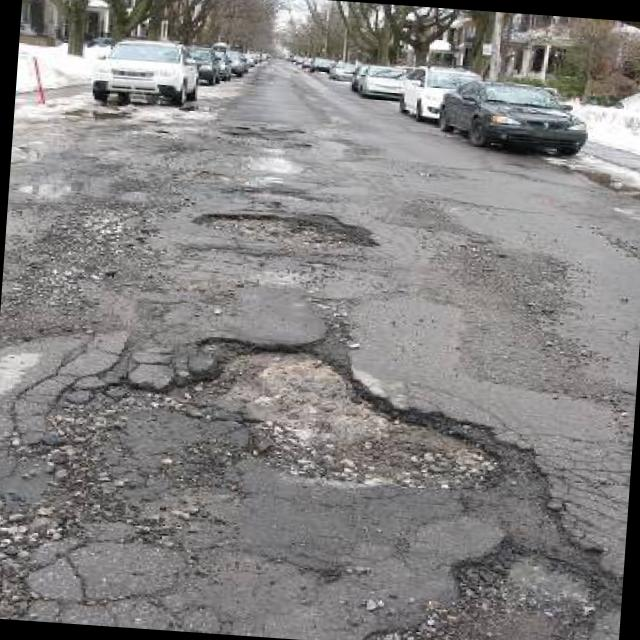Potholes: (86, 289, 524, 516), (371, 520, 625, 640), (169, 187, 387, 260), (224, 114, 327, 156)
